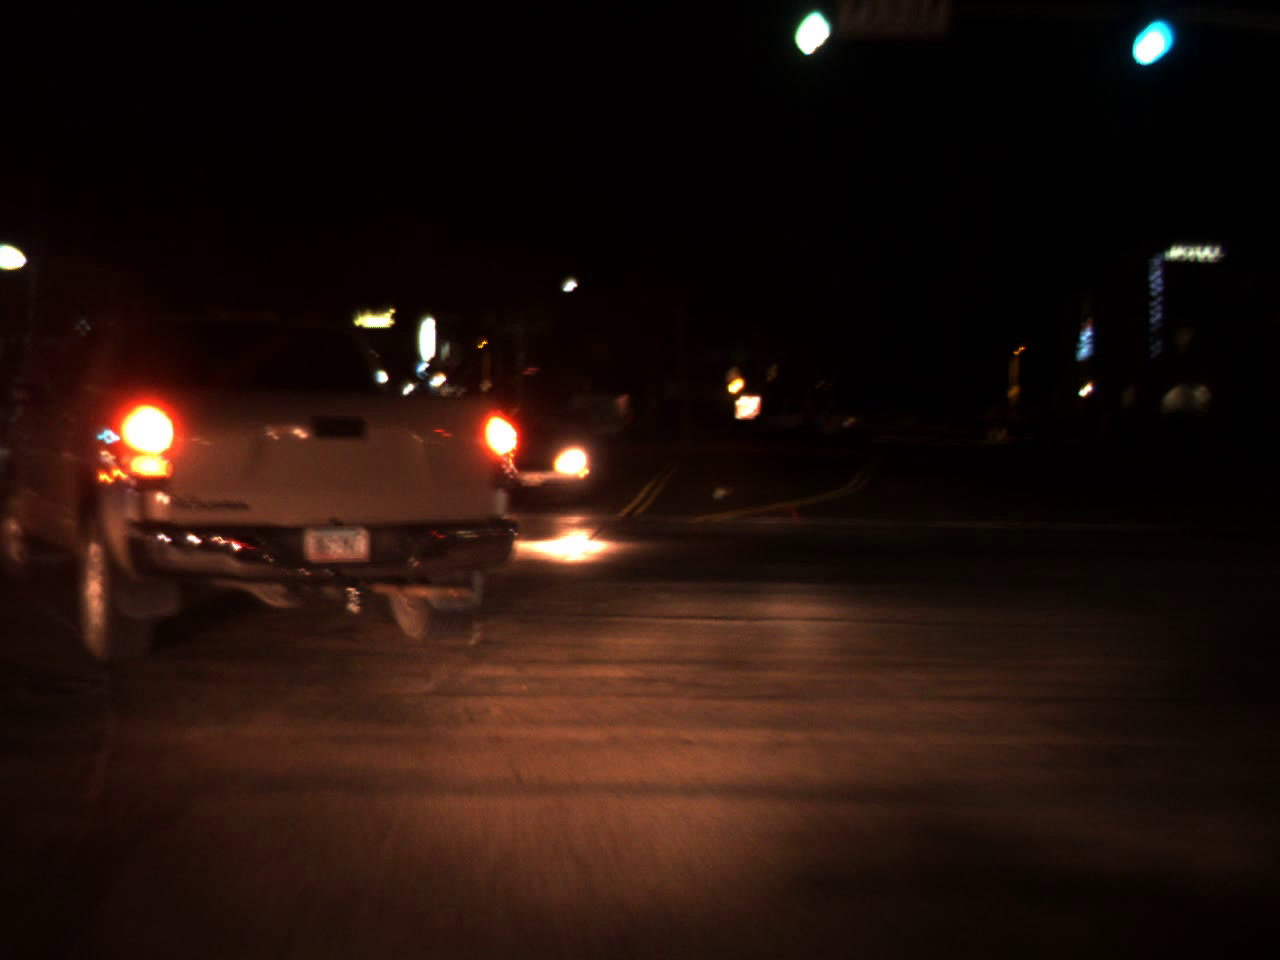go: (775, 0, 841, 69), (1121, 0, 1171, 75)
